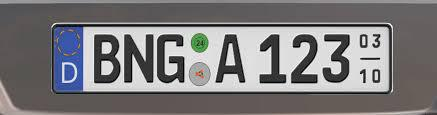1: (258, 33, 287, 85)
2: (290, 34, 319, 84)
3: (322, 33, 351, 83)
A: (214, 33, 247, 84)
B: (91, 32, 122, 85)
G: (155, 33, 186, 84)
N: (123, 33, 155, 83)
